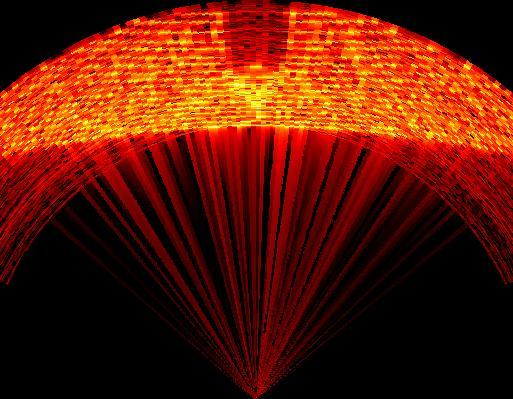box_crate: (222, 4, 289, 72)
